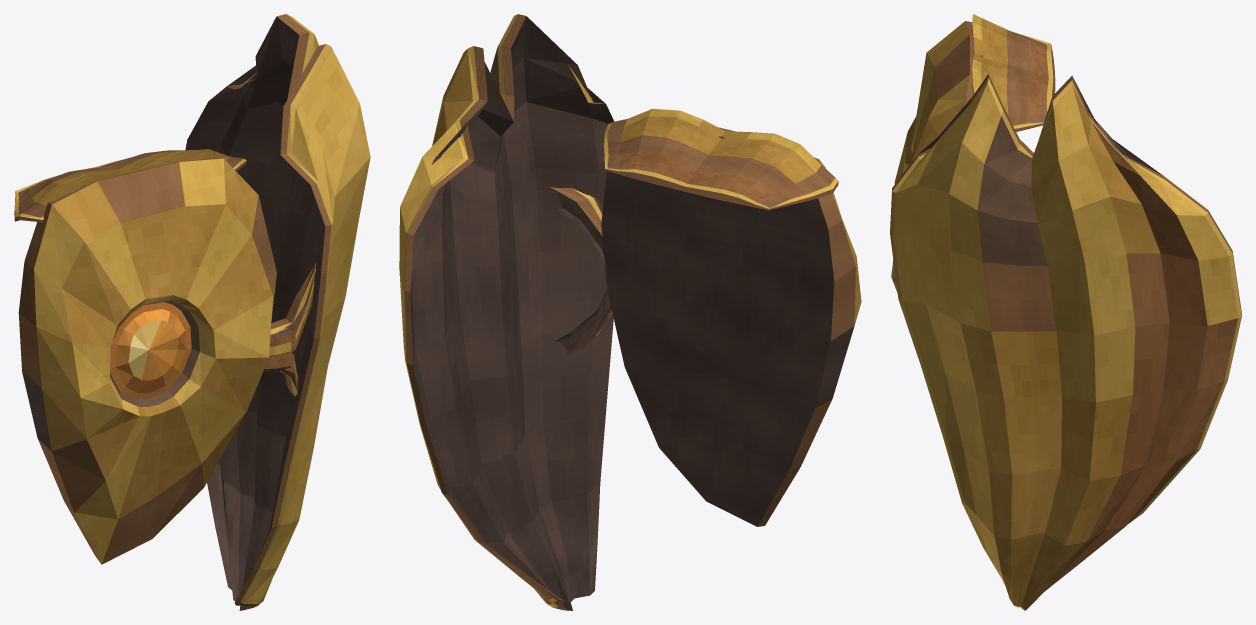
Rendered from jindan_jinwu_gauntlet.glb.
The picture shows the model from 3 angles, left to right: view 1: azimuth 30°, elevation 25°; view 2: azimuth 150°, elevation 25°; view 3: azimuth 270°, elevation 25°; orthographic projection.
Parts seen in each view (by area): view 1: 内凹日斑护手, 前伸双峰外翼, 宽拳面折边, 前支扣, 外翼榫座; view 2: 前伸双峰外翼, 内凹日斑护手, 宽拳面折边, 前支扣, 后支扣; view 3: 前伸双峰外翼, 宽拳面折边, 内凹日斑护手.
Boxes of the visible parts, x1,y1,x2,y2 form: 内凹日斑护手: [18, 156, 276, 564]; 前伸双峰外翼: [185, 14, 370, 610]; 宽拳面折边: [14, 149, 246, 222]; 前支扣: [283, 263, 316, 352]; 外翼榫座: [263, 319, 291, 371]; 前伸双峰外翼: [399, 14, 614, 610]; 内凹日斑护手: [601, 127, 861, 526]; 宽拳面折边: [603, 108, 838, 210]; 前支扣: [550, 187, 605, 265]; 后支扣: [555, 289, 612, 354]; 前伸双峰外翼: [890, 74, 1241, 610]; 宽拳面折边: [972, 14, 1055, 131]; 内凹日斑护手: [891, 21, 983, 292].
Bounding box in the file's own units: 13.57 × 20.48 × 11.69.
11 materials, 11 textured.
